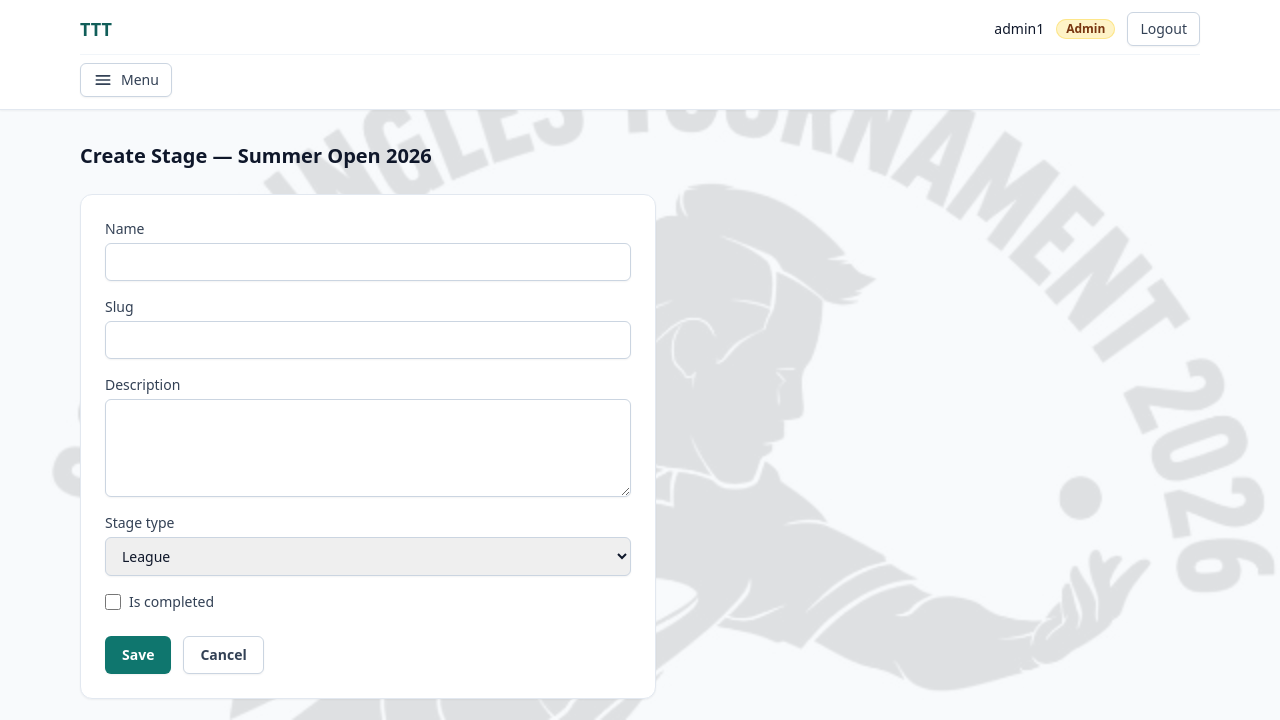
Test: Create stage › submits the form and returns to the stage list
Expected: the heading "Create Stage — Summer Open 2026" is shown, x1=80 y1=142 x2=432 y2=170
In the field labelled "Name": (368, 262) x1=105 y1=243 x2=631 y2=281, type "Semi Final"
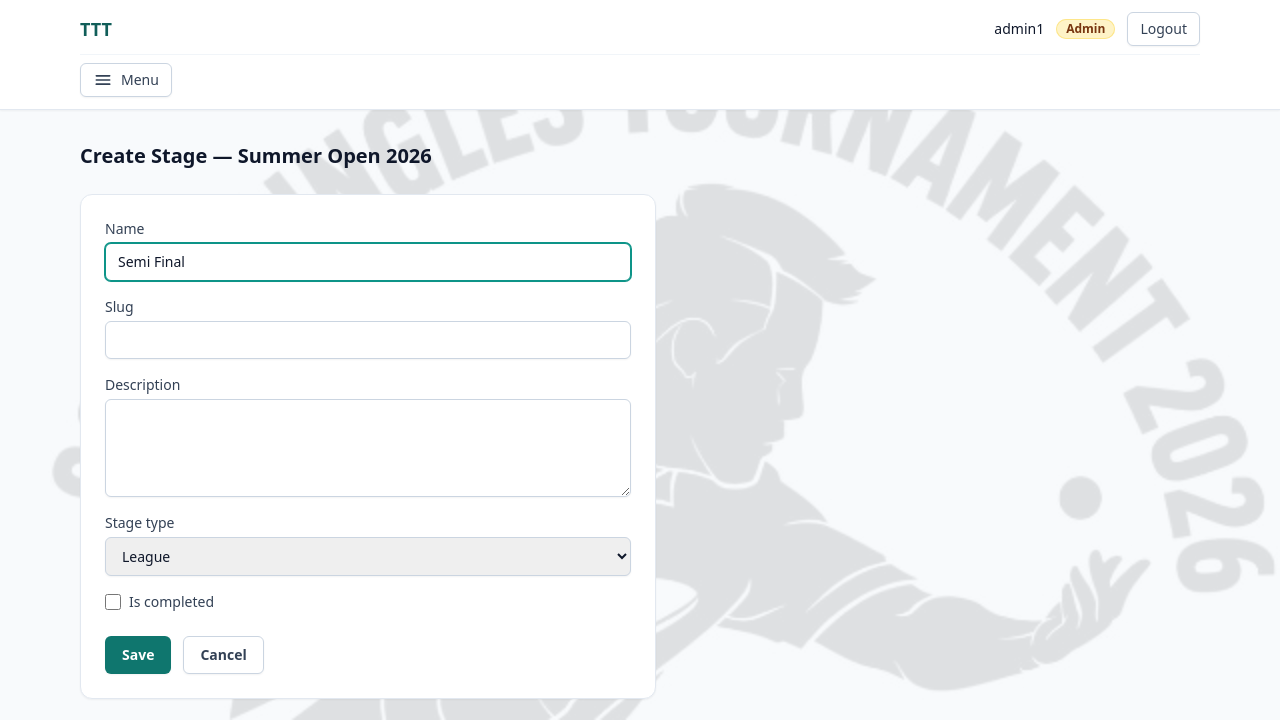
In the field labelled "Slug": (368, 340) x1=105 y1=321 x2=631 y2=359, type "sf"
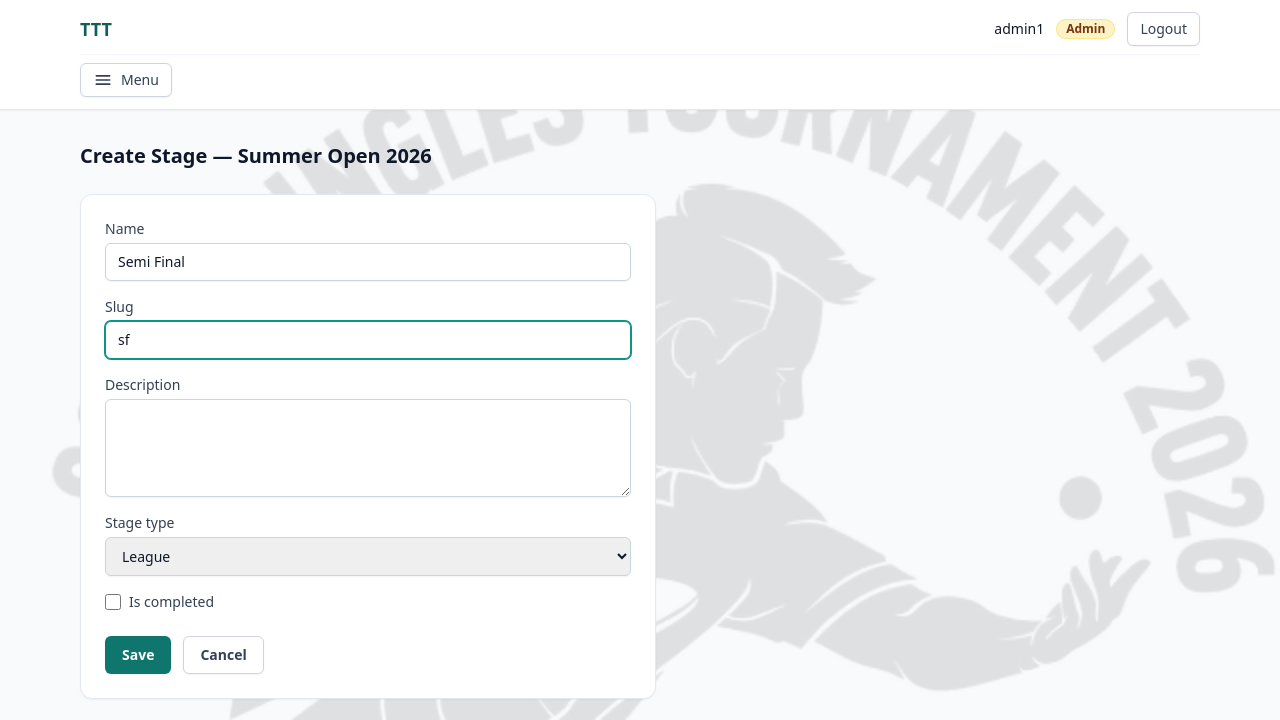
Select "Playoff" in the dropdown labelled "Stage type": (368, 556) x1=105 y1=537 x2=631 y2=576
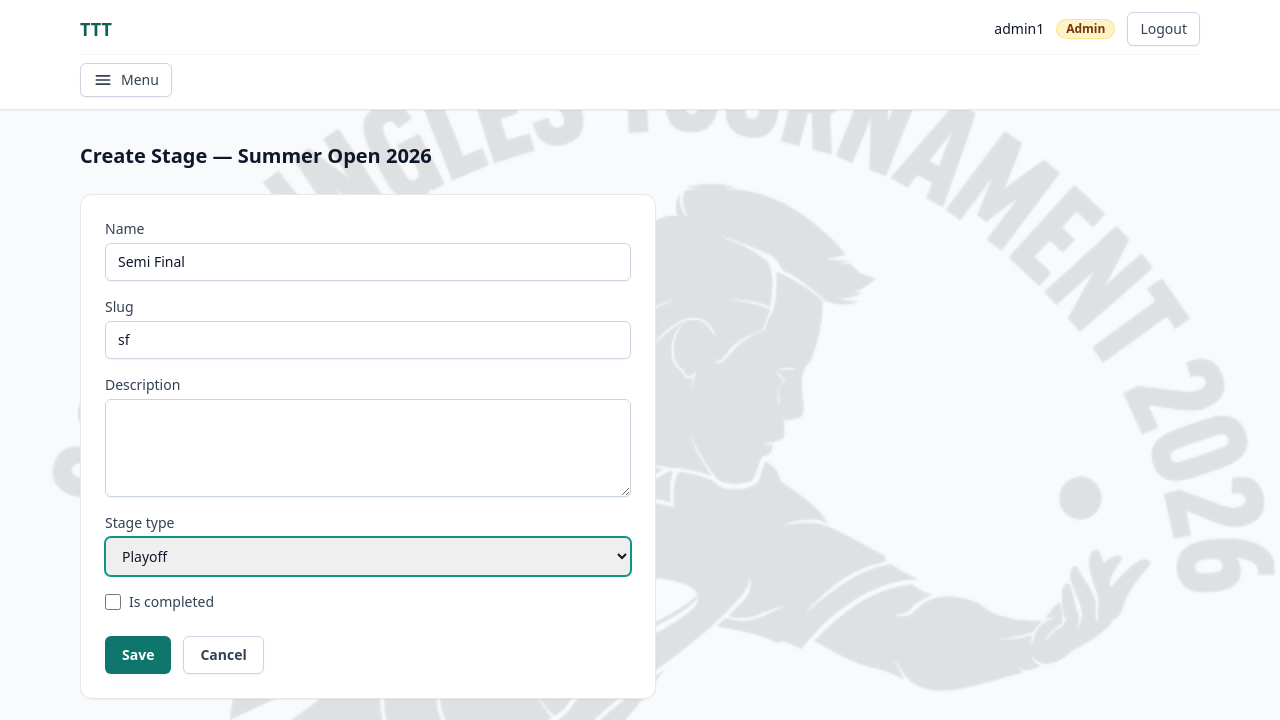
Click the button "Save": (138, 655) x1=105 y1=636 x2=171 y2=674
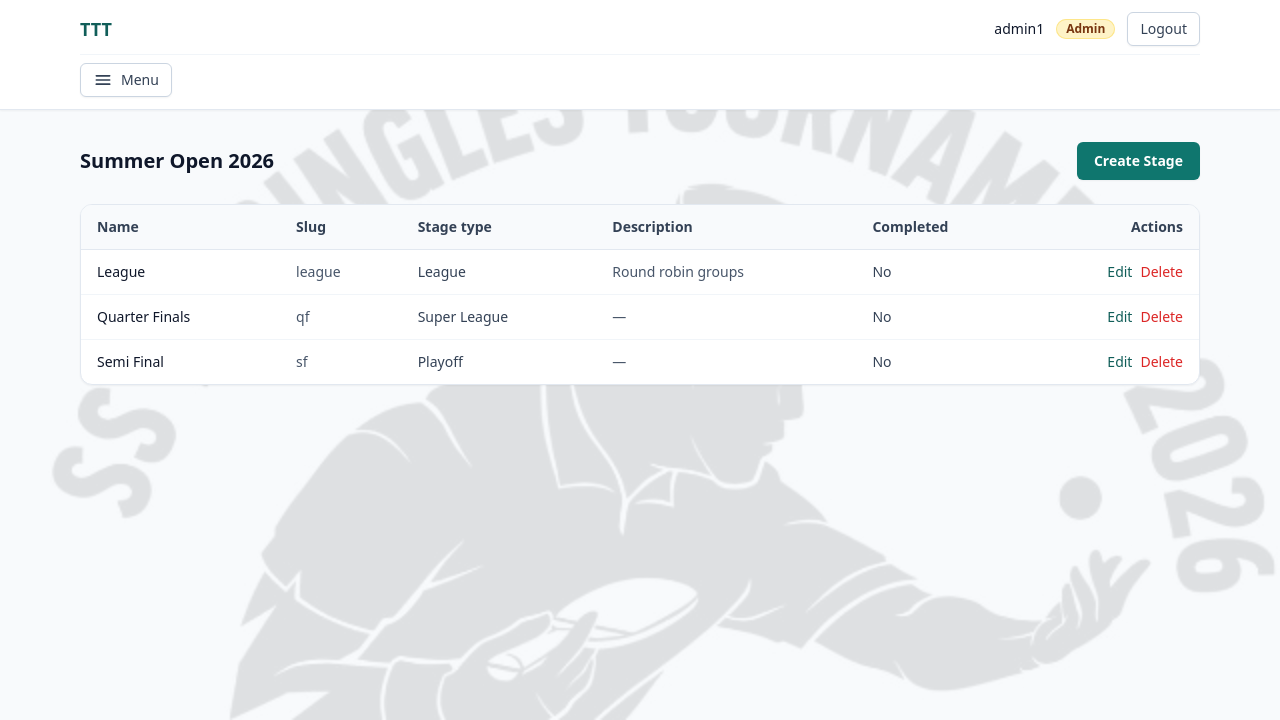
Expected: the text "Semi Final" is shown, x1=81 y1=340 x2=280 y2=384
Expected: the text "sf" is shown, x1=280 y1=340 x2=402 y2=384
Expected: the text "Playoff" is shown, x1=402 y1=340 x2=596 y2=384
